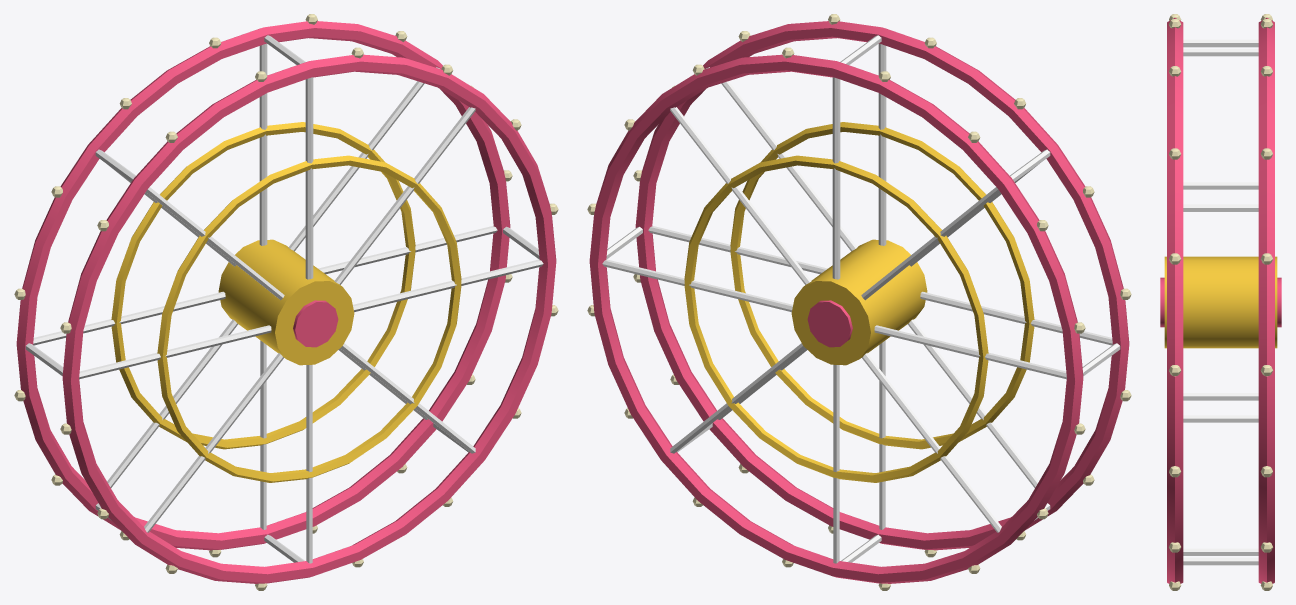
The model's file is ferris-wheel.wheel.glb.
3 views of the same model, side by side, from view 1: azimuth 30°, elevation 25°; view 2: azimuth 150°, elevation 25°; view 3: azimuth 270°, elevation 25° (orthographic).
Parts seen in each view (by area): view 1: model; view 2: model; view 3: model.
Part boxes in pixels (bbox=[...]): model: bbox=[14, 14, 558, 590]; model: bbox=[587, 14, 1131, 590]; model: bbox=[1160, 14, 1281, 590].
Size of the model in its own units: 2.74 by 2.75 by 0.58.
1 material, 1 textured.
